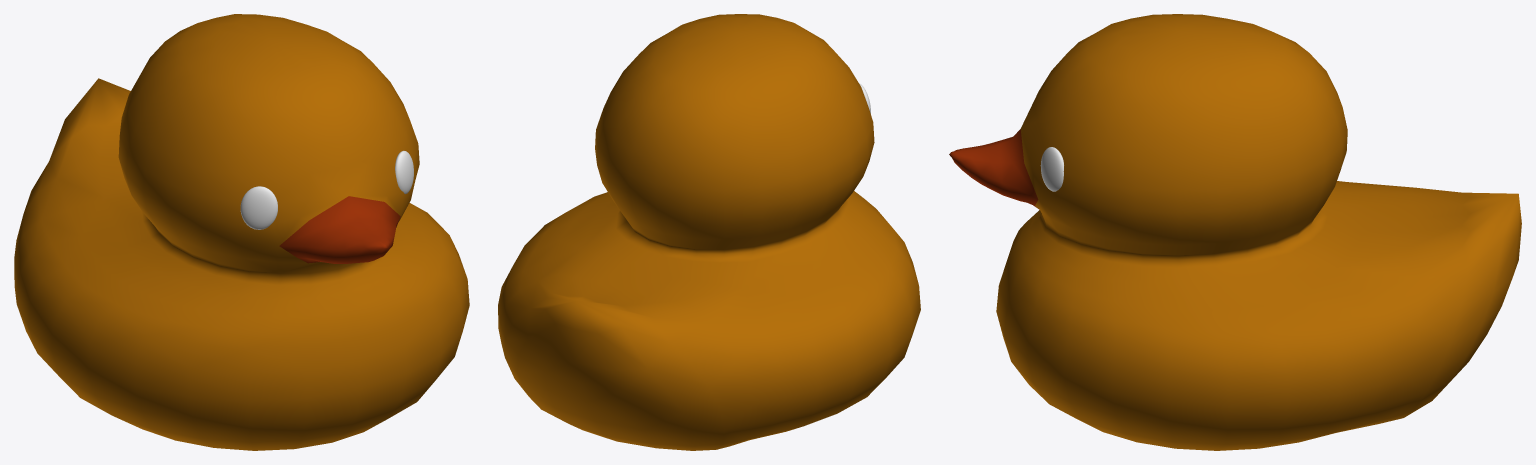
3 renders of one model, left to right at view 1: azimuth 30°, elevation 25°; view 2: azimuth 150°, elevation 25°; view 3: azimuth 270°, elevation 25°, orthographic. The views are drawn at different scales.
Visible parts, largest first — view 1: Cylinder001, Sphere001, Sphere002; view 2: Cylinder001; view 3: Cylinder001, Sphere002.
Boxes of the visible parts, x1,y1,x2,y2 form: Cylinder001: (14, 14, 469, 450); Sphere001: (240, 186, 277, 229); Sphere002: (395, 150, 413, 193); Cylinder001: (498, 14, 920, 450); Cylinder001: (949, 14, 1521, 450); Sphere002: (1040, 147, 1063, 191).
Size of the model in its own units: 104 by 97.58 by 135.
